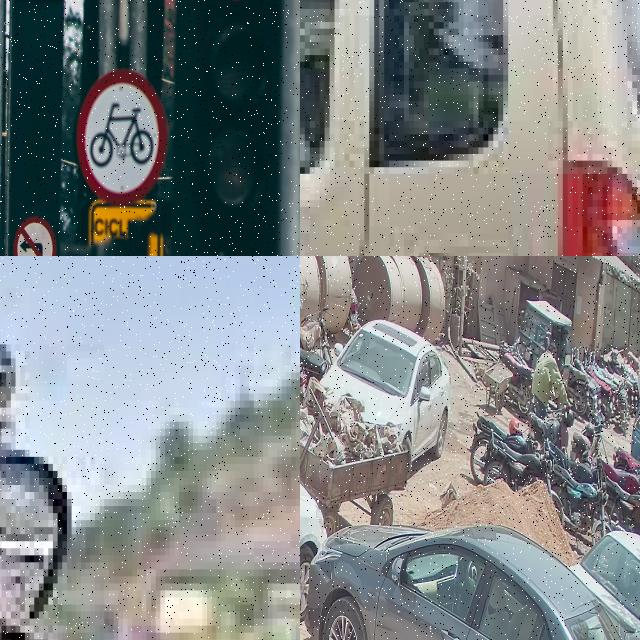bike: (0, 256, 151, 640), (468, 412, 532, 484), (481, 430, 553, 492), (552, 458, 608, 534), (547, 436, 602, 485), (500, 341, 533, 417), (300, 303, 327, 383), (529, 406, 571, 457), (605, 474, 640, 533), (300, 307, 332, 367), (572, 415, 606, 460), (613, 445, 640, 497), (601, 460, 640, 494), (569, 364, 589, 416)
car: (300, 0, 640, 256), (304, 522, 638, 640), (320, 320, 450, 472), (578, 530, 640, 640)
